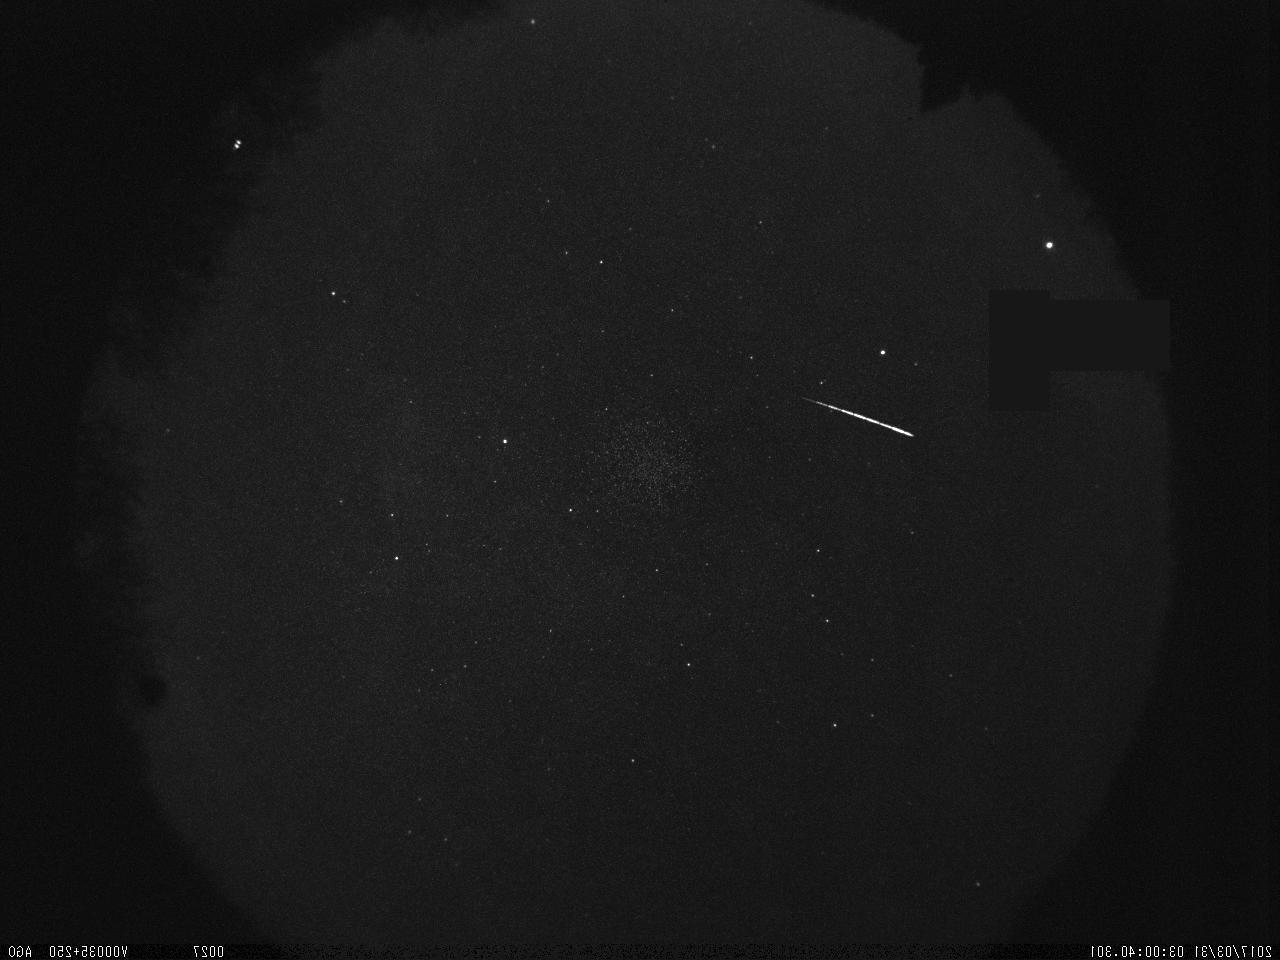meteor: (784, 384, 931, 456)
